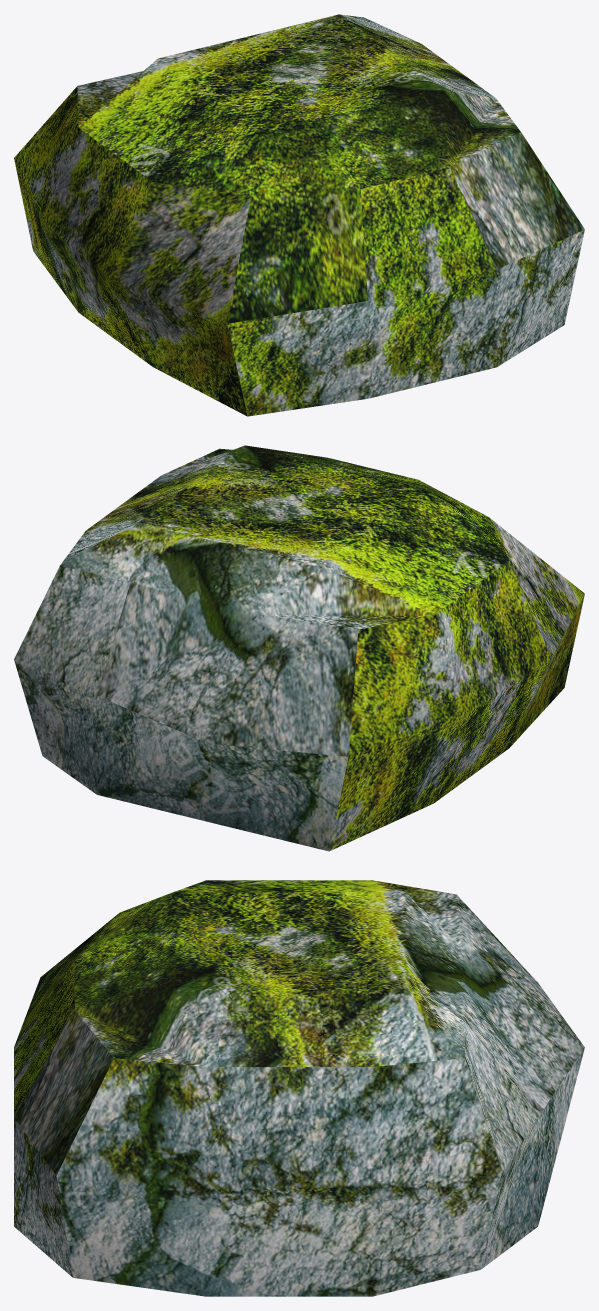
The model's file is Stone.fbx.
3 renders of one model, top to bottom at view 1: azimuth 30°, elevation 25°; view 2: azimuth 150°, elevation 25°; view 3: azimuth 270°, elevation 25°, orthographic. The views are drawn at different scales.
Parts seen in each view (by area): view 1: pCube1; view 2: pCube1; view 3: pCube1.
Part boxes in pixels (left/top/right/bottom): pCube1: left=14, top=14, right=584, bottom=416; pCube1: left=14, top=445, right=584, bottom=851; pCube1: left=14, top=880, right=584, bottom=1296.
Size of the model in its own units: 111 by 54.39 by 115.
